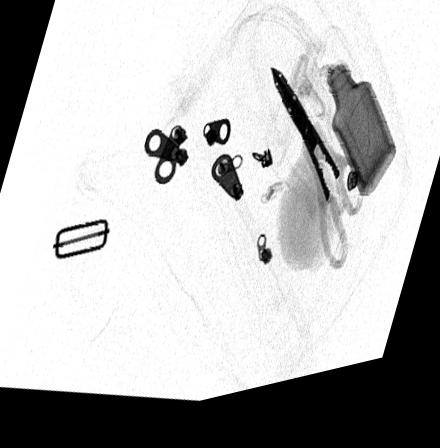Scissors: (262, 77, 369, 289)
